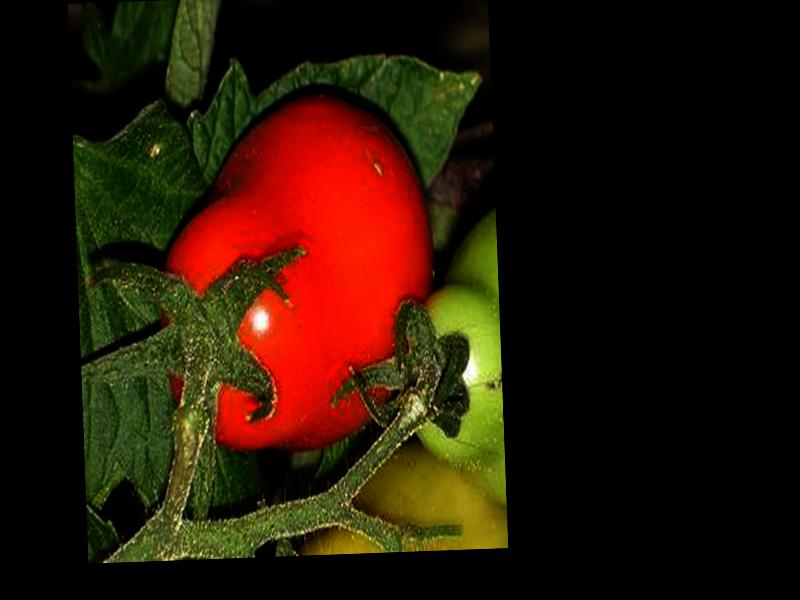Tomato: (153, 88, 439, 452)
